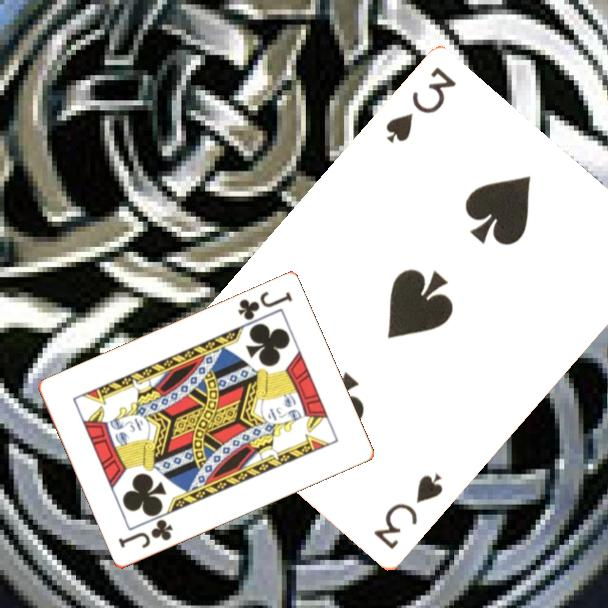c11: (114, 516, 176, 552), (234, 288, 295, 324)
s03: (382, 64, 460, 147), (370, 470, 446, 553)
